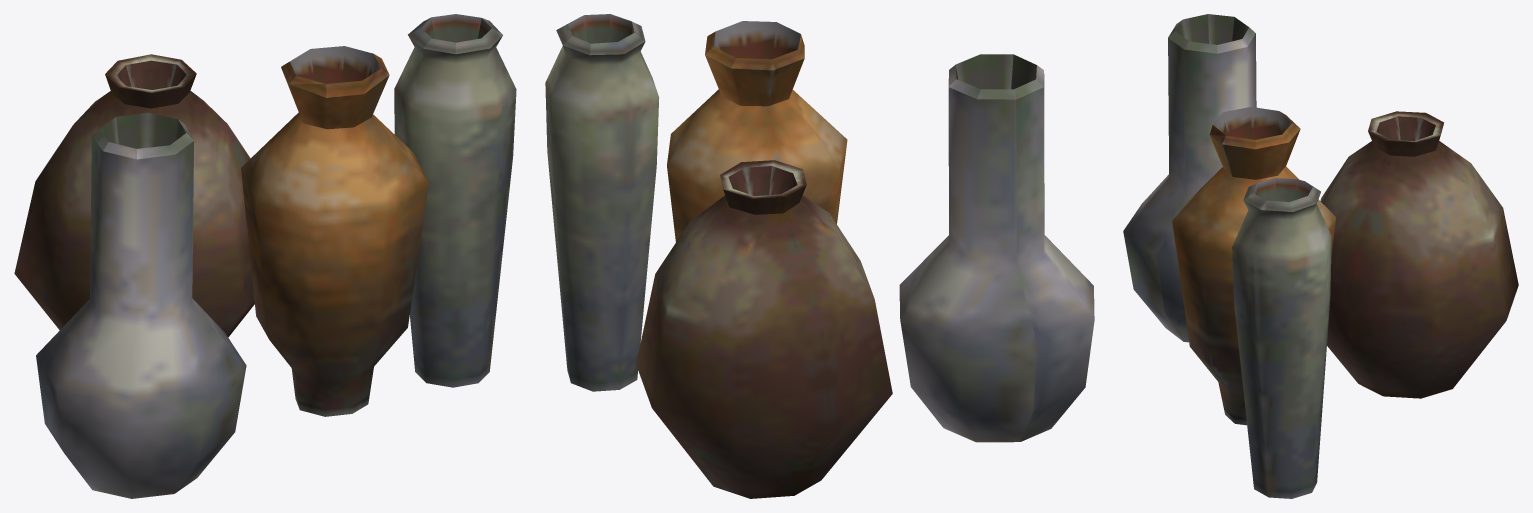
File: 1004_Item_guanzi_6.FBX
3 renders of one model, left to right at view 1: azimuth 30°, elevation 25°; view 2: azimuth 150°, elevation 25°; view 3: azimuth 270°, elevation 25°, orthographic. The views are drawn at different scales.
Visible parts, largest first — view 1: 1004_Item_guanzi_6; view 2: 1004_Item_guanzi_6; view 3: 1004_Item_guanzi_6.
Boxes of the visible parts, x1,y1,x2,y2 form: 1004_Item_guanzi_6: (14, 14, 516, 498); 1004_Item_guanzi_6: (545, 14, 1094, 498); 1004_Item_guanzi_6: (1123, 14, 1518, 498).
Bounding box in the file's own units: 73.2 × 50.76 × 58.8.
